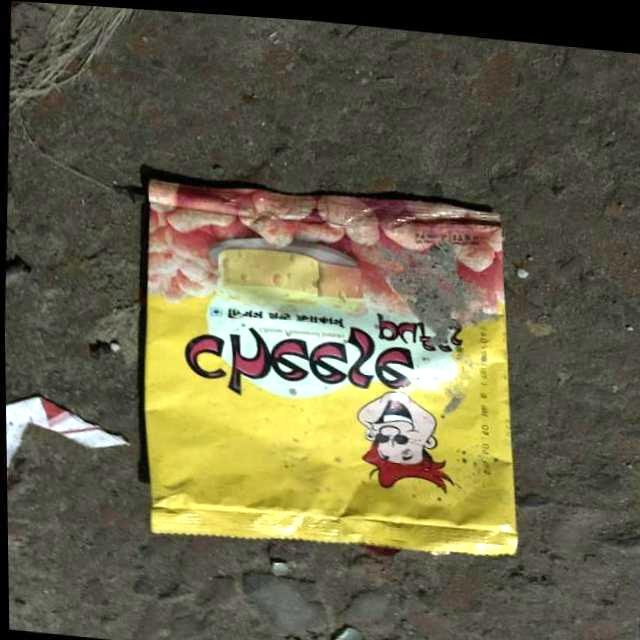packet: (129, 168, 535, 569)
